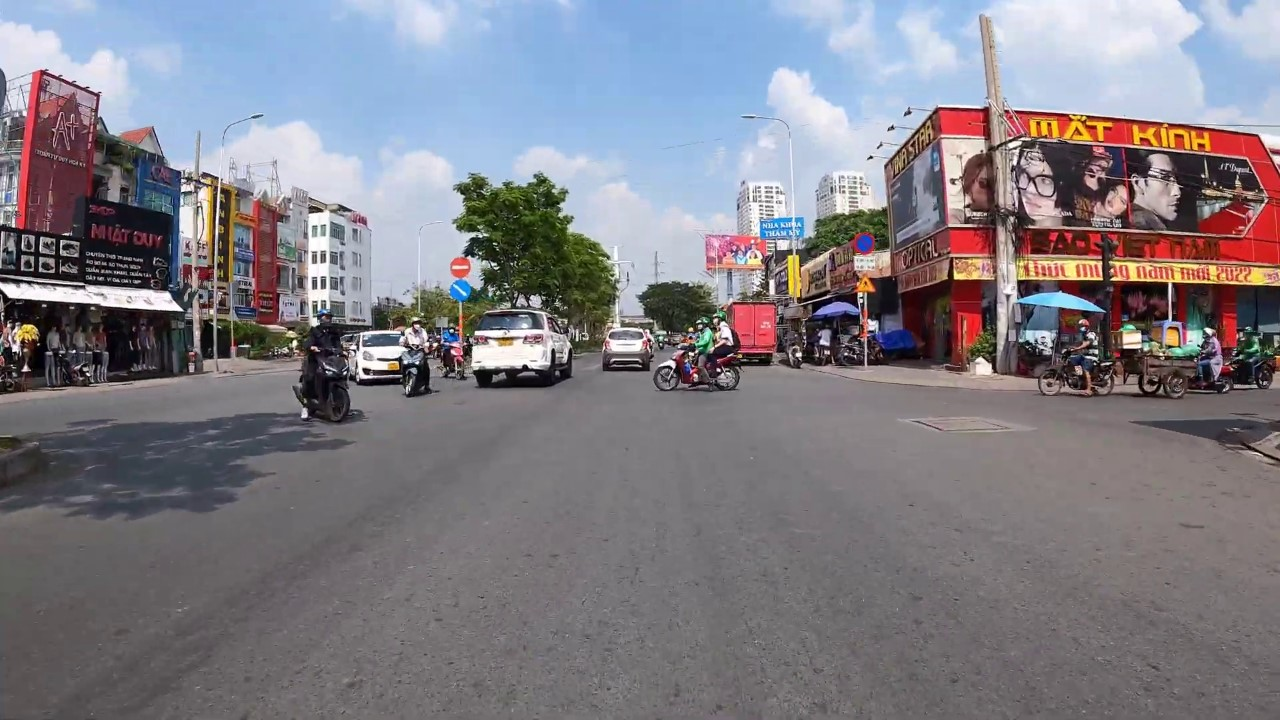cam_do_xe: (853, 232, 875, 255)
cam_nguoc_chieu: (449, 256, 471, 278)
can_than_nguoi_qua_duong: (853, 273, 877, 293)
huong_phai_di_vong: (449, 280, 471, 302)
